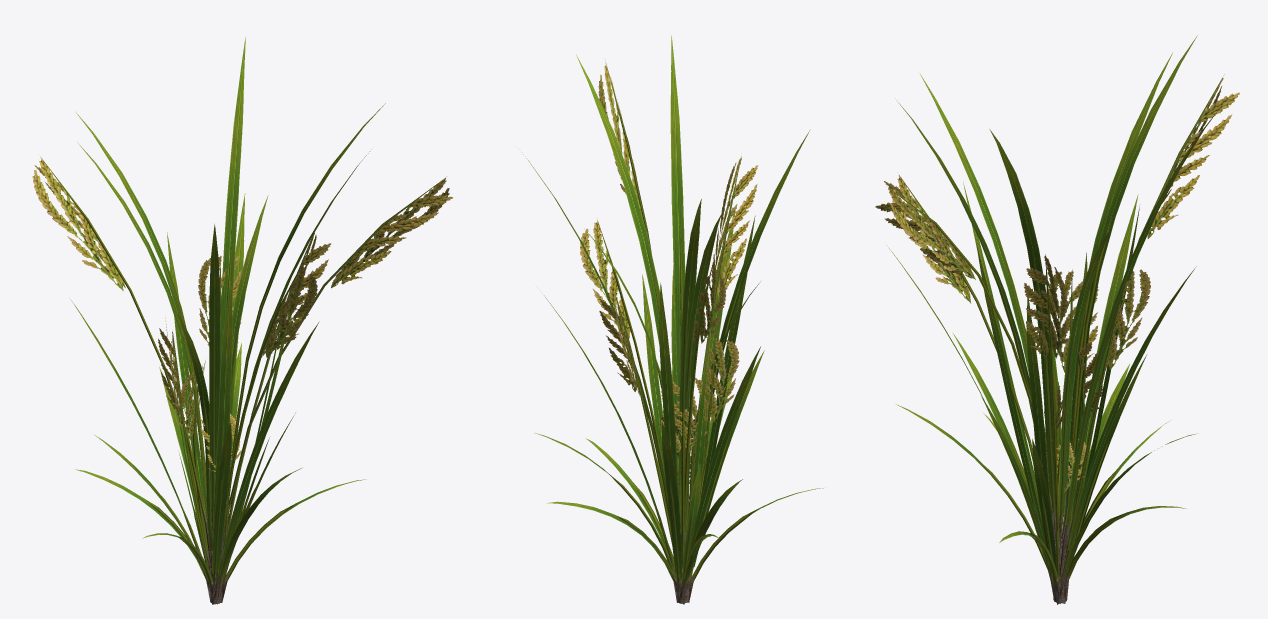
File: Reworked RicePlant.fbx
3 renders of one model, left to right at view 1: azimuth 30°, elevation 25°; view 2: azimuth 150°, elevation 25°; view 3: azimuth 270°, elevation 25°, orthographic. The views are drawn at different scales.
Parts seen in each view (by area): view 1: riceleaf_1, ricenose_2, stem 02_0; view 2: riceleaf_1, ricenose_2, stem 02_0; view 3: riceleaf_1, stem 02_0, ricenose_2.
Part boxes in pixels (x1,y1,x2,y2): riceleaf_1: (70, 37, 385, 576); ricenose_2: (32, 158, 452, 476); stem 02_0: (41, 157, 444, 604); riceleaf_1: (523, 35, 823, 582); ricenose_2: (580, 63, 758, 494); stem 02_0: (598, 62, 758, 604); riceleaf_1: (888, 35, 1218, 578); stem 02_0: (888, 74, 1224, 604); ricenose_2: (875, 78, 1239, 492).
Bounding box in the file's own units: 75.35 × 122 × 75.92.
Materials: 3 (3 with a texture image).
